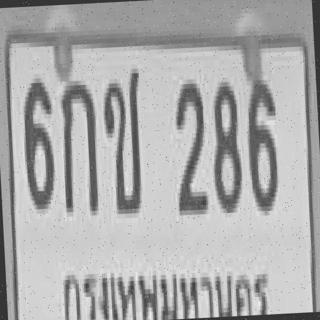A01: (58, 76, 99, 212)
A10: (100, 64, 145, 210)
N02: (171, 74, 207, 211)
N06: (243, 71, 279, 207), (19, 74, 54, 205)
N08: (208, 77, 242, 209)
P04: (57, 255, 271, 320)
